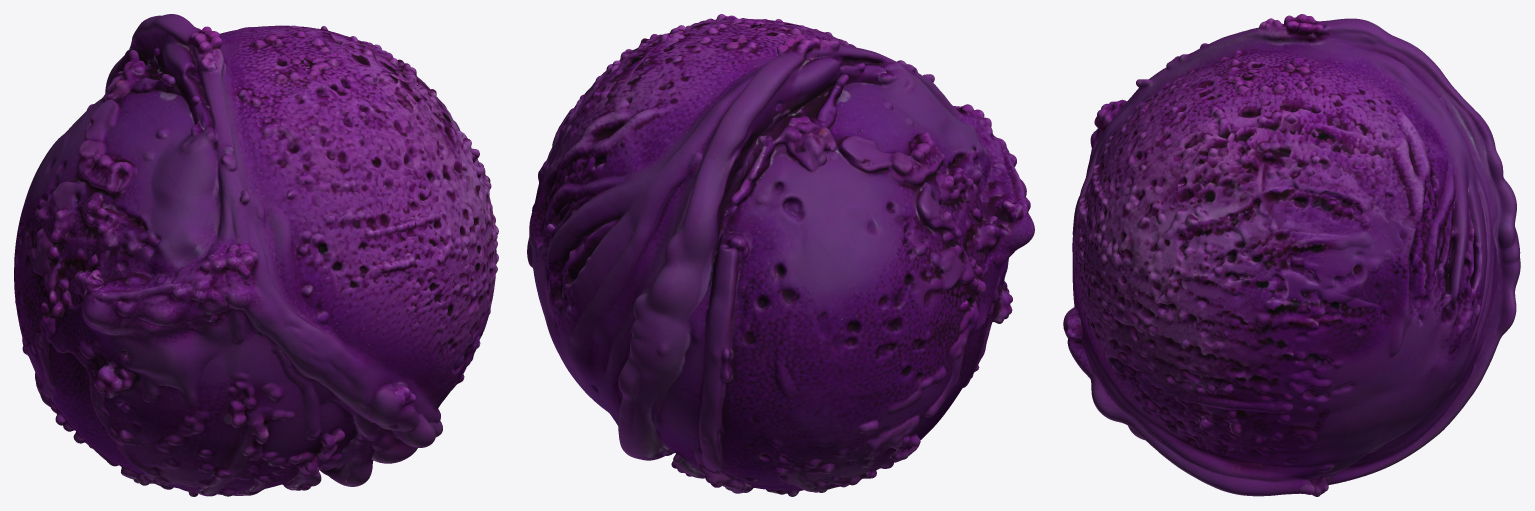
Rendered from scoop_mora.glb.
3 views of the same model, side by side, from view 1: azimuth 30°, elevation 25°; view 2: azimuth 150°, elevation 25°; view 3: azimuth 270°, elevation 25° (orthographic). The views are drawn at different scales.
Visible parts, largest first — view 1: tripo_node_8b0d377d-14f4-40d1-82f7-1b42ef1befd9; view 2: tripo_node_8b0d377d-14f4-40d1-82f7-1b42ef1befd9; view 3: tripo_node_8b0d377d-14f4-40d1-82f7-1b42ef1befd9.
Boxes of the visible parts, box(x1,y1,x2,y2) form: tripo_node_8b0d377d-14f4-40d1-82f7-1b42ef1befd9: box(14, 14, 498, 496); tripo_node_8b0d377d-14f4-40d1-82f7-1b42ef1befd9: box(527, 14, 1034, 496); tripo_node_8b0d377d-14f4-40d1-82f7-1b42ef1befd9: box(1063, 14, 1520, 496).
Size of the model in its own units: 0.9982 by 1 by 0.9698.
Materials: 1 (1 with a texture image).
